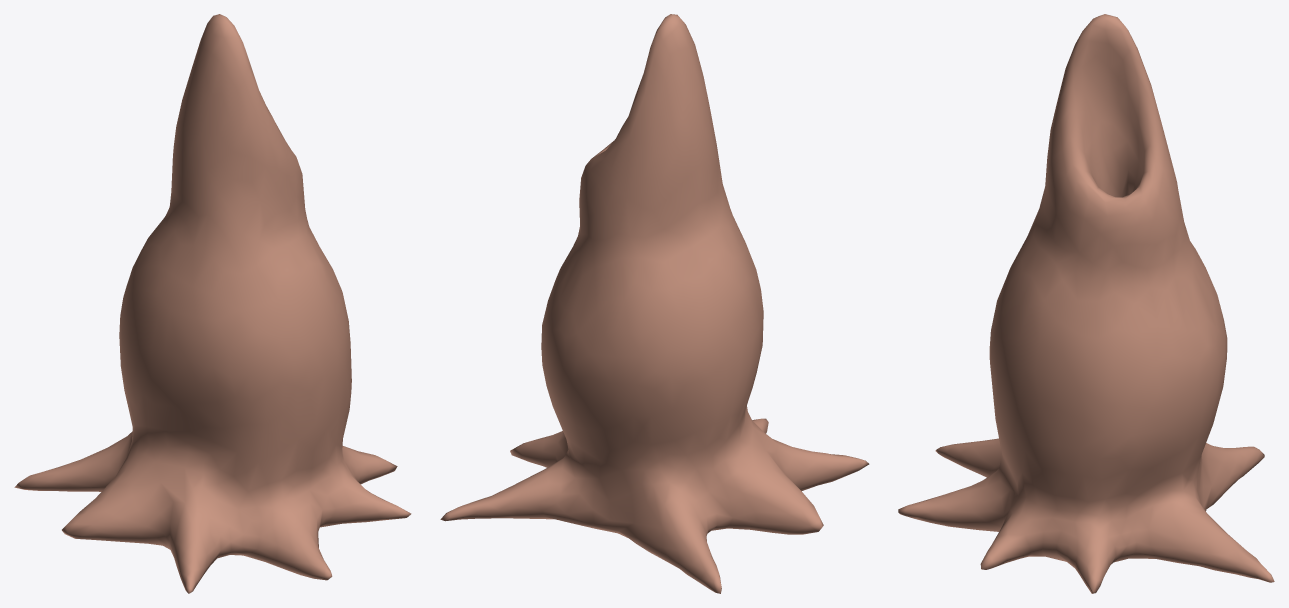
Rendered from Peuknacle.dae.
The picture shows the model from 3 angles, left to right: view 1: azimuth 30°, elevation 25°; view 2: azimuth 150°, elevation 25°; view 3: azimuth 270°, elevation 25°; orthographic projection. The views are drawn at different scales.
Parts seen in each view (by area): view 1: Peuknacle; view 2: Peuknacle; view 3: Peuknacle.
Part boxes in pixels (x1=…): Peuknacle: x1=14, y1=14, x2=411, y2=593; Peuknacle: x1=440, y1=14, x2=869, y2=593; Peuknacle: x1=898, y1=14, x2=1274, y2=593.
Size of the model in its own units: 5.78 by 5.7 by 8.51.
